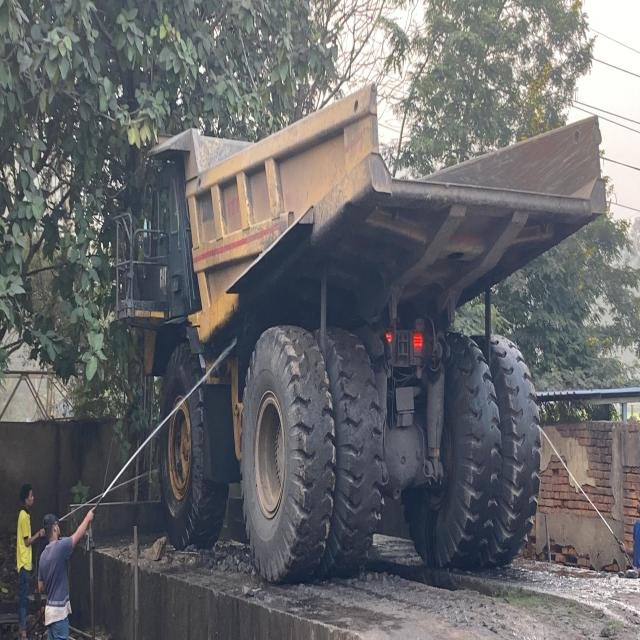dump_truck: (116, 73, 613, 578)
